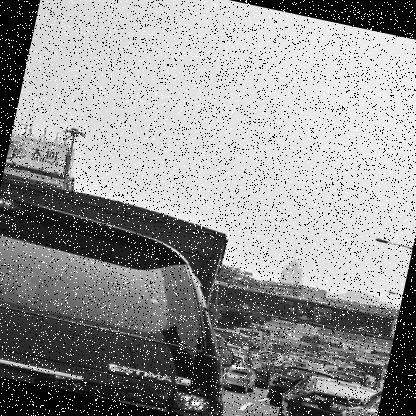Car: (0, 196, 404, 415)
